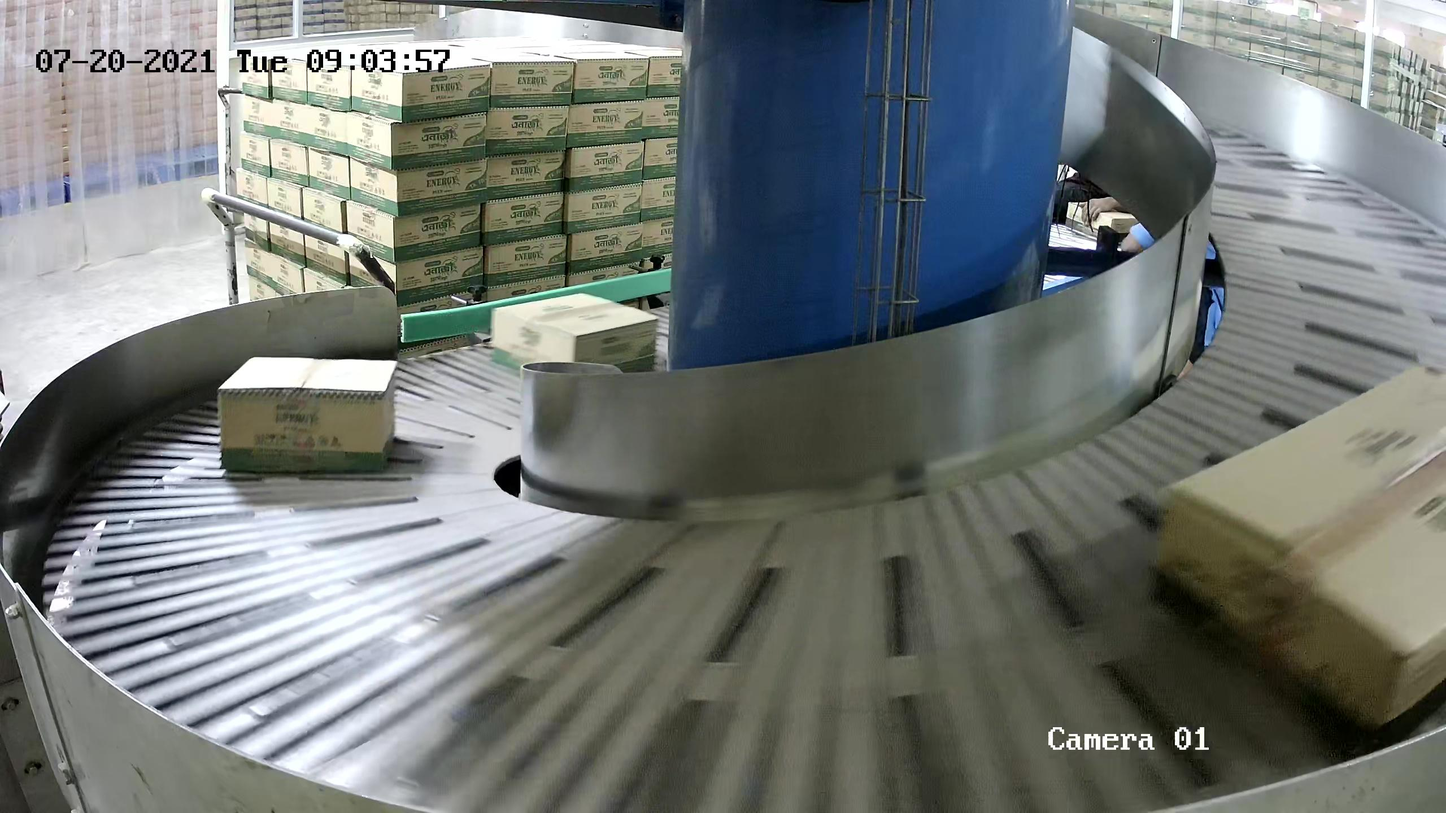Box: (1147, 361, 1446, 763), (217, 356, 397, 474), (489, 292, 660, 373)
